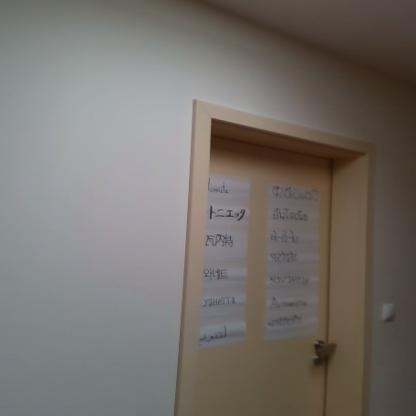door: (192, 134, 335, 416)
lever: (309, 345, 344, 368)
